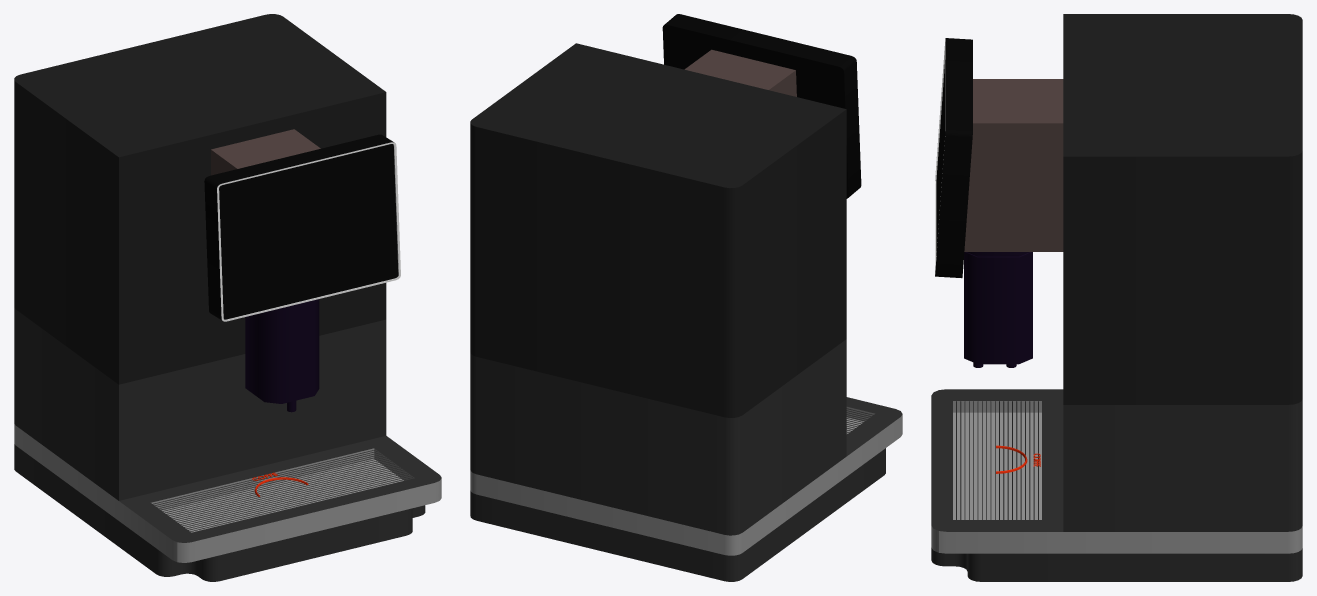
Rendered from CoffeMAchine.fbx.
3 renders of one model, left to right at view 1: azimuth 30°, elevation 25°; view 2: azimuth 150°, elevation 25°; view 3: azimuth 270°, elevation 25°, orthographic. The views are drawn at different scales.
Parts seen in each view (by area): view 1: Cube.003, Cube.002, Cube.004, Cube.001, Cube, Cube.005, Cube.007, Cube.006; view 2: Cube.003, Cube.002, Cube, Cube.001, Cube.004, Cube.006; view 3: Cube.003, Cube.002, Cube.001, Cube.006, Cube, Cube.005, Cube.004, Cube.007.
Boxes of the visible parts, x1,y1,x2,y2 form: Cube.003: (14,14,386,384); Cube.002: (14,308,386,500); Cube.004: (204,134,400,321); Cube.001: (14,424,441,562); Cube: (14,444,425,581); Cube.005: (245,299,319,412); Cube.007: (153,449,413,531); Cube.006: (211,129,320,175); Cube.003: (470,43,846,417); Cube.002: (470,339,846,535); Cube: (470,448,885,581); Cube.001: (470,397,902,555); Cube.004: (662,14,861,198); Cube.006: (684,49,796,96); Cube.003: (1063,14,1302,404); Cube.002: (1063,399,1302,531); Cube.001: (931,389,1302,553); Cube.006: (964,79,1063,251); Cube: (931,547,1302,581); Cube.005: (964,252,1032,367); Cube.004: (935,38,972,278); Cube.007: (956,401,1038,519).
Size of the model in its own units: 325 by 454 by 358.
